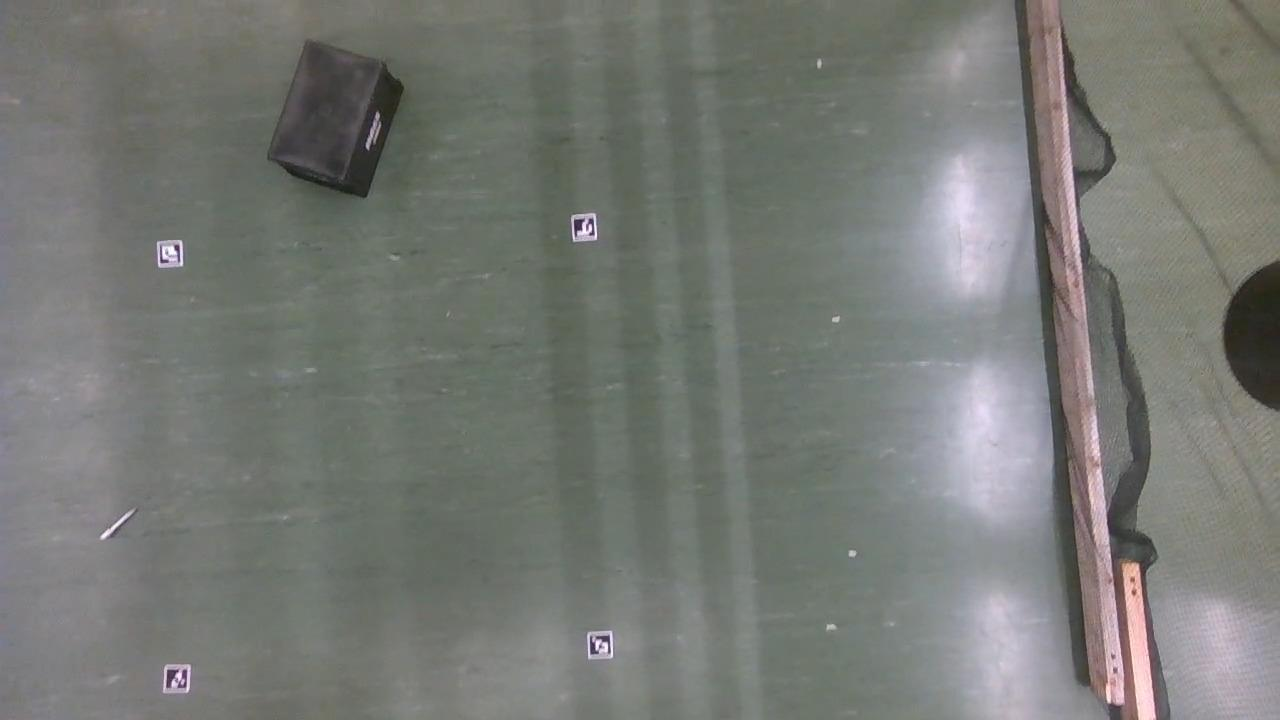probes: (100, 507, 136, 540)
rako: (267, 41, 405, 200)
